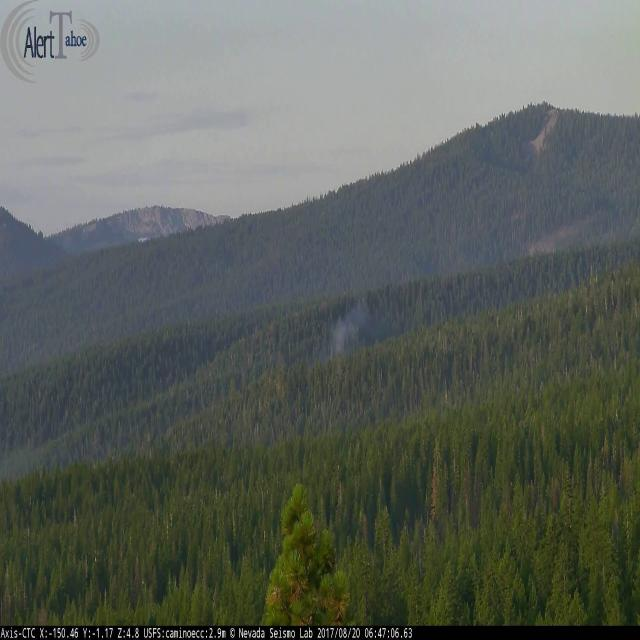smoke: (328, 292, 400, 352)
